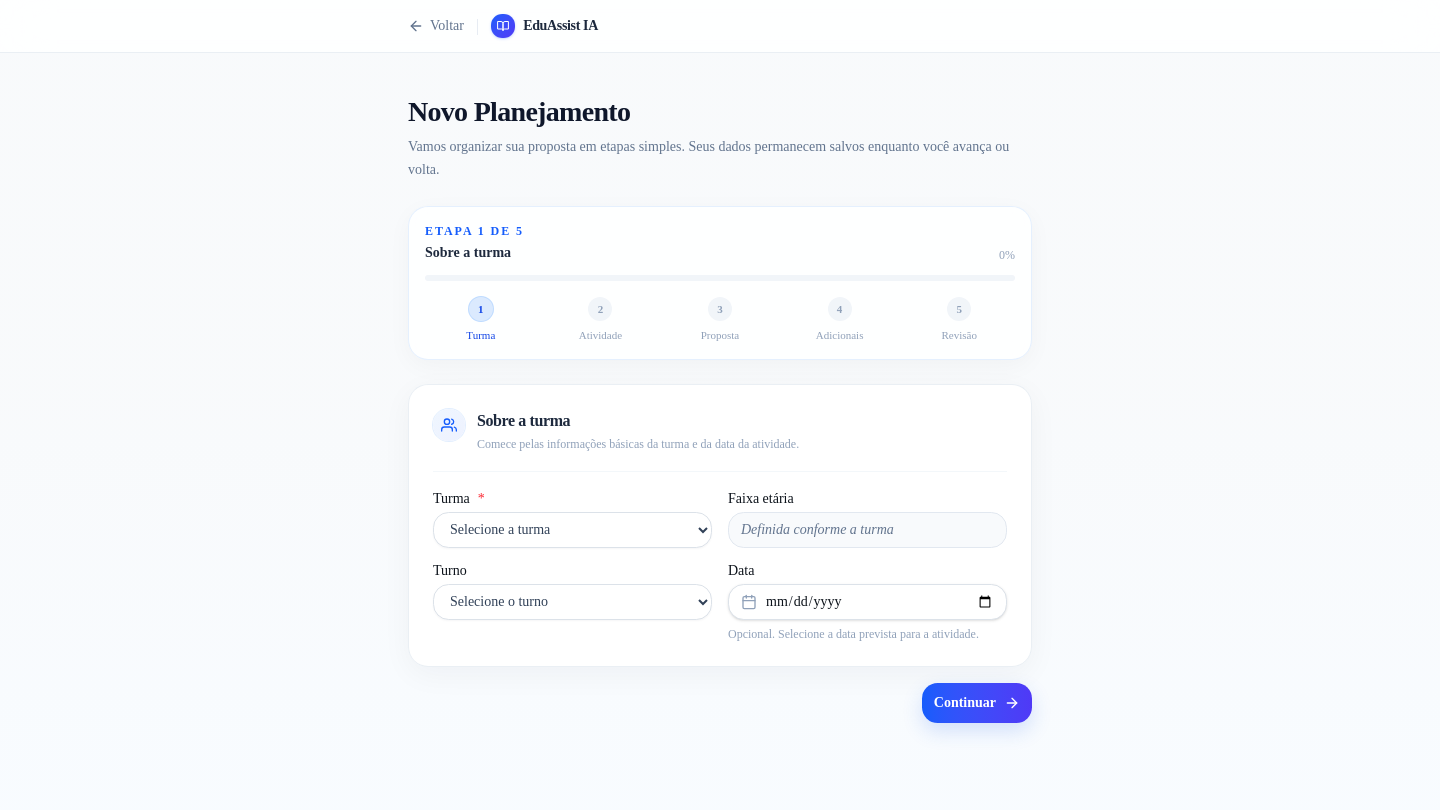
Test: Interface de planejamento › deve impedir o avanço quando a turma não foi selecionada
The image size is (1440, 810).
Click the button "Continuar" at (977, 703), box [922,683,1032,723]
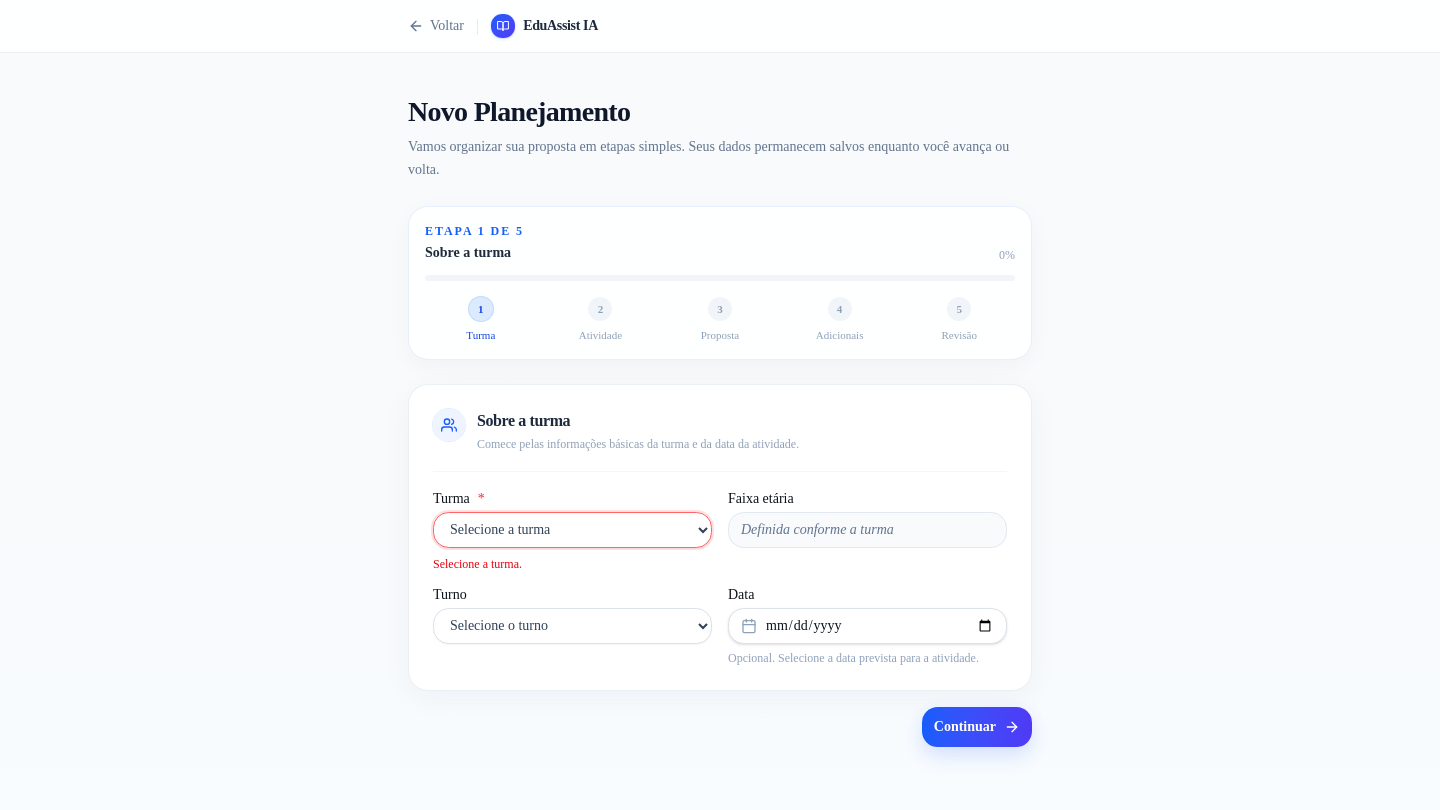
Check: the heading "Sobre a turma" is shown, box [477,412,570,429]
Check: the message reads "Selecione a turma.", box [433,557,522,571]
